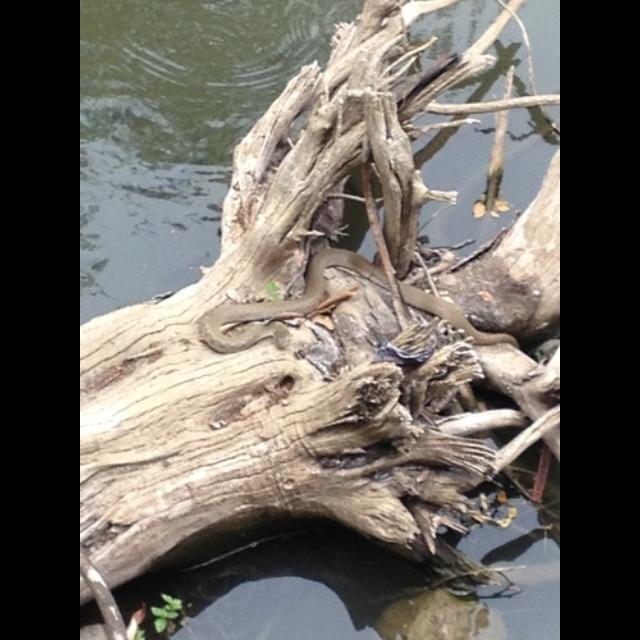snake: (214, 274, 511, 358)
